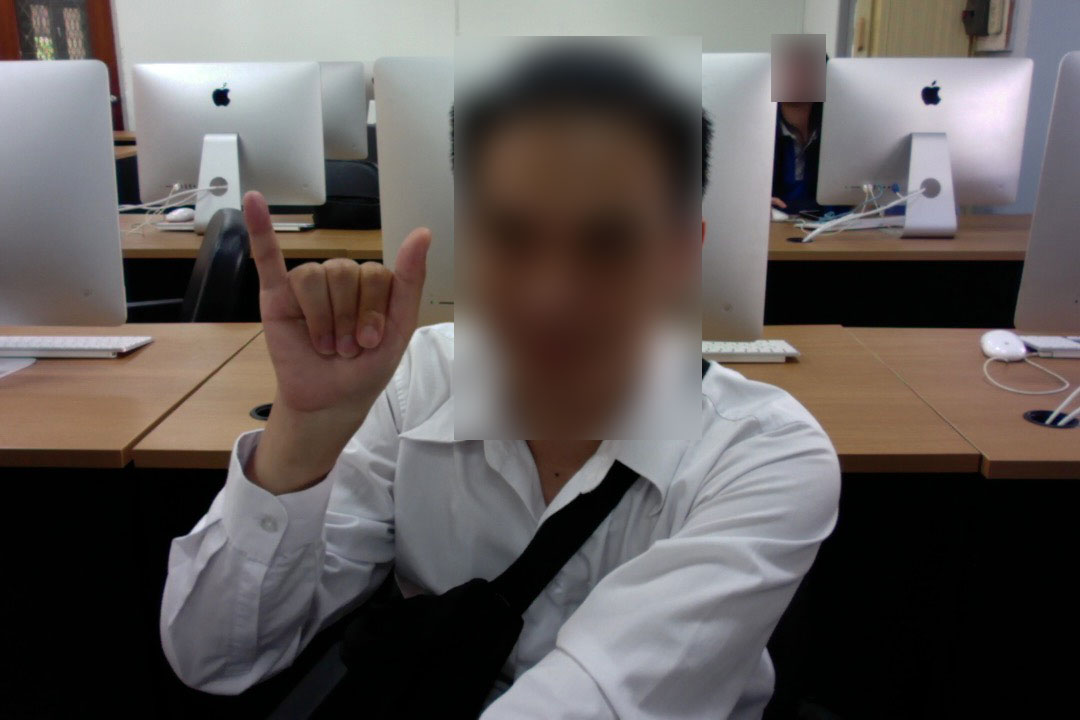yor: (234, 180, 435, 468)
